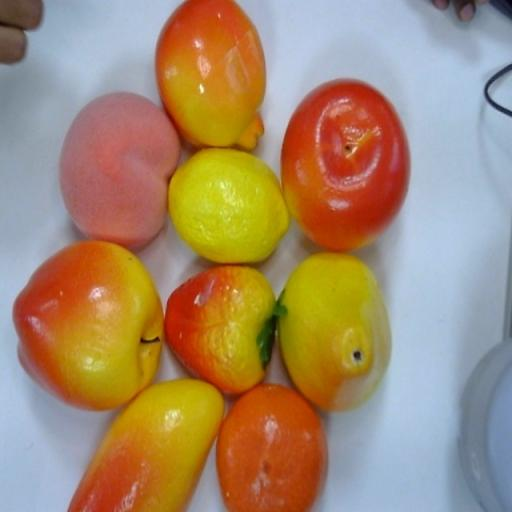Ripe: (6, 243, 164, 409), (279, 74, 415, 254), (63, 386, 222, 512), (57, 90, 180, 248), (282, 254, 394, 422), (153, 0, 272, 153), (167, 256, 280, 395), (215, 384, 329, 512), (172, 153, 289, 264)
